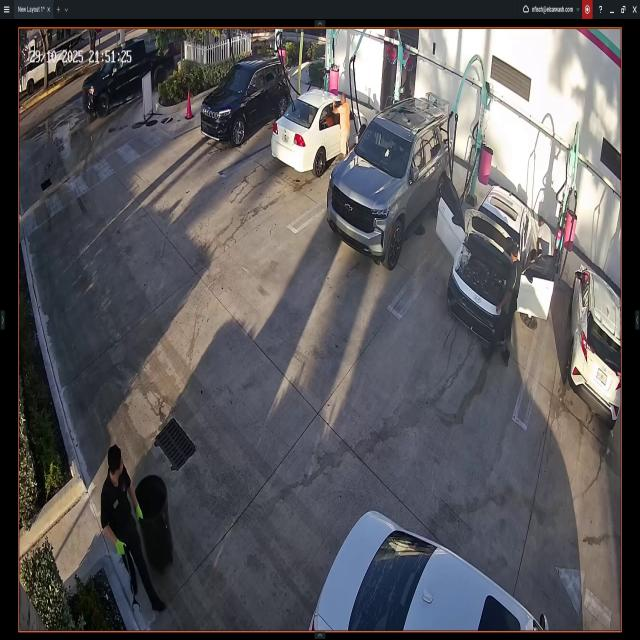Car: (311, 511, 548, 634), (329, 98, 451, 268), (438, 170, 555, 343), (201, 54, 291, 147), (570, 263, 621, 427), (271, 90, 368, 172), (82, 42, 176, 108)
